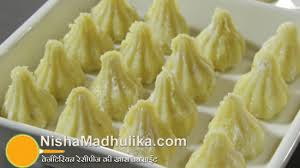modak: (160, 34, 233, 102), (230, 44, 290, 121), (90, 50, 153, 122), (211, 91, 275, 158), (150, 71, 203, 141), (196, 6, 250, 73)
